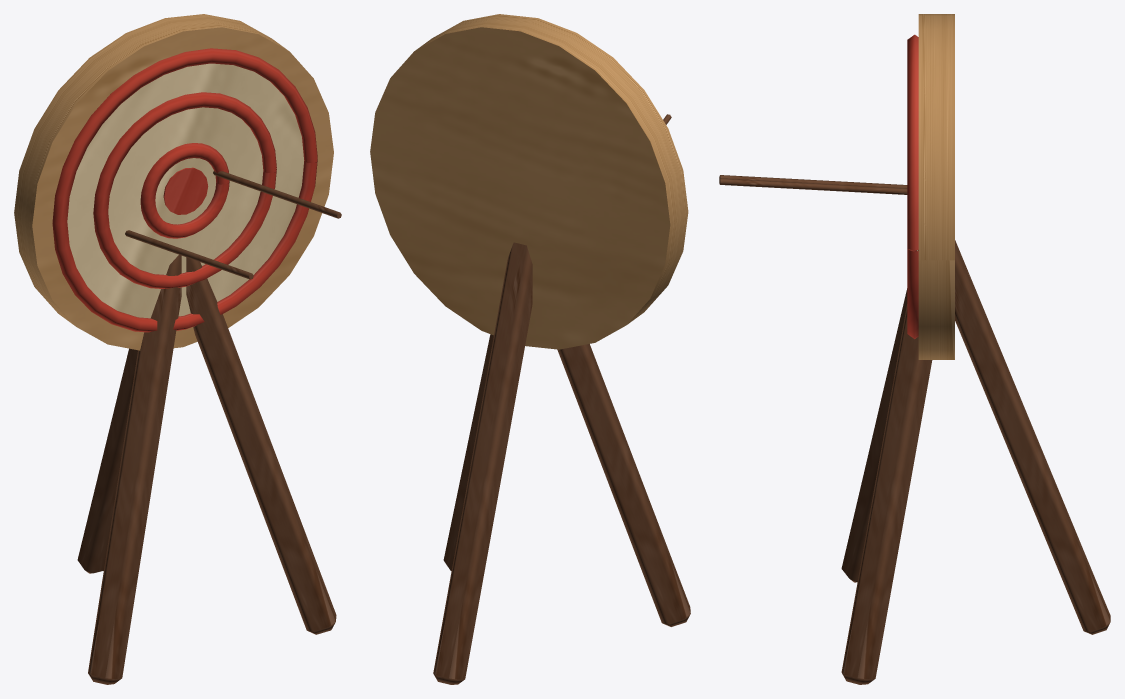
Rendered from SM_Target.glb.
3 renders of one model, left to right at view 1: azimuth 30°, elevation 25°; view 2: azimuth 150°, elevation 25°; view 3: azimuth 270°, elevation 25°, orthographic.
Parts seen in each view (by area): view 1: SM_Target; view 2: SM_Target; view 3: SM_Target.
Part boxes in pixels (x1,y1,x2,y2): SM_Target: [14, 14, 341, 684]; SM_Target: [370, 14, 690, 684]; SM_Target: [719, 14, 1110, 684].
Bounding box in the file's own units: 0.96 × 1.84 × 1.08.
1 material, 1 textured.
